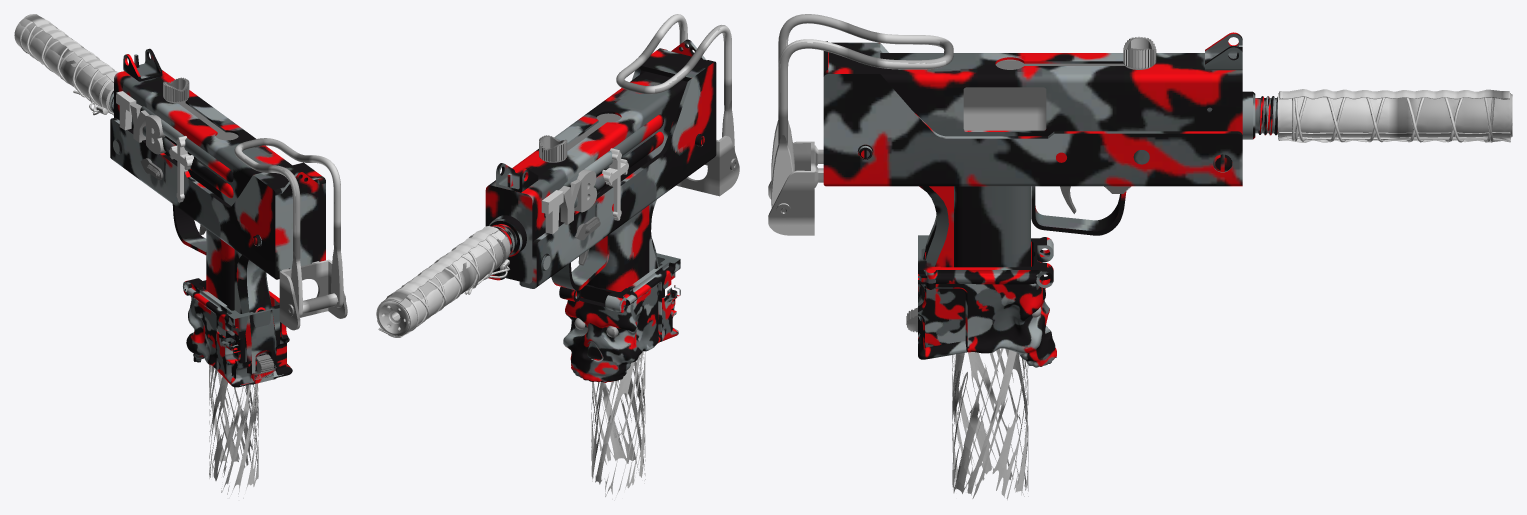
The model's file is Uzi.fbx.
3 views of the same model, side by side, from view 1: azimuth 30°, elevation 25°; view 2: azimuth 150°, elevation 25°; view 3: azimuth 270°, elevation 25° (orthographic). The views are drawn at different scales.
Parts seen in each view (by area): view 1: Gun_Uzi; view 2: Gun_Uzi; view 3: Gun_Uzi.
Boxes of the visible parts, box(x1,y1,x2,y2) form: Gun_Uzi: box(14, 14, 347, 498); Gun_Uzi: box(376, 14, 739, 500); Gun_Uzi: box(768, 14, 1512, 500).
Size of the model in its own units: 31.12 by 173 by 244.
Materials: 9 (9 with a texture image).
